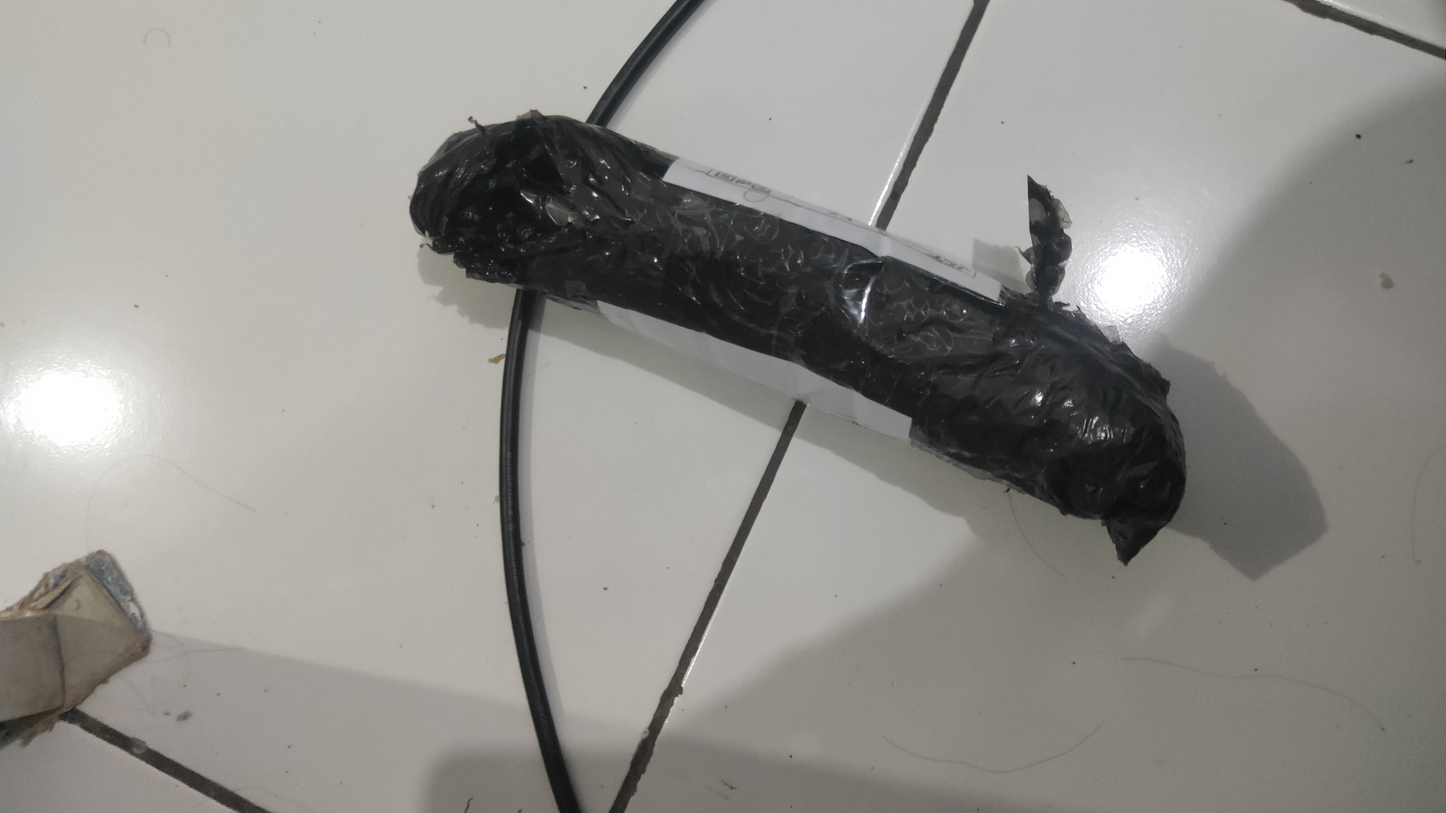damaged package: (436, 154, 602, 267), (1050, 439, 1185, 557)
undamaged: (406, 112, 1192, 562)
